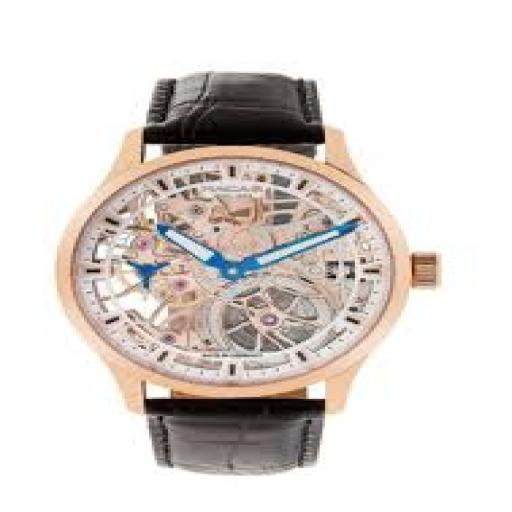KolSaati: (49, 43, 449, 478)
